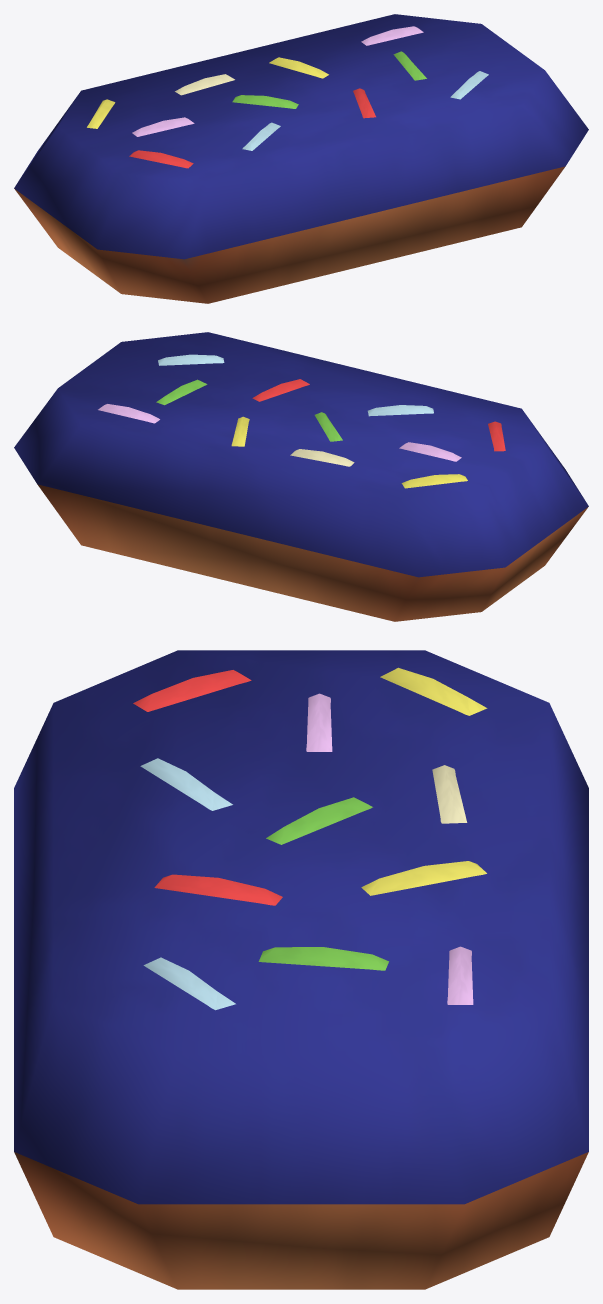
The model's file is Doughnut_Bar_E_5.FBX.
The picture shows the model from 3 angles, top to bottom: view 1: azimuth 30°, elevation 25°; view 2: azimuth 150°, elevation 25°; view 3: azimuth 270°, elevation 25°; orthographic projection. The views are drawn at different scales.
Parts seen in each view (by area): view 1: Doughnut_Bar; view 2: Doughnut_Bar; view 3: Doughnut_Bar.
Part boxes in pixels (bbox=[...]): Doughnut_Bar: bbox=[14, 14, 588, 303]; Doughnut_Bar: bbox=[14, 332, 588, 621]; Doughnut_Bar: bbox=[14, 650, 588, 1289].
Bounding box in the file's own units: 75.48 × 18.74 × 39.15.
